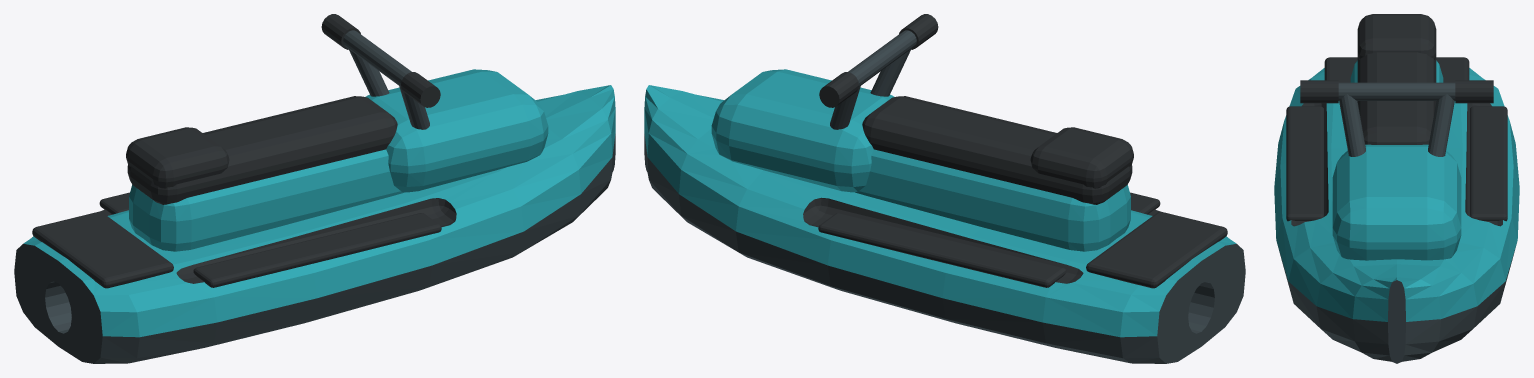
File: NEW_RECOVERY_122_LOD1.fbx
3 renders of one model, left to right at view 1: azimuth 30°, elevation 25°; view 2: azimuth 150°, elevation 25°; view 3: azimuth 270°, elevation 25°, orthographic. The views are drawn at different scales.
Parts seen in each view (by area): view 1: Generic personal watercraft solid; view 2: Generic personal watercraft solid; view 3: Generic personal watercraft solid.
Boxes of the visible parts, left/top/right/bottom form: Generic personal watercraft solid: left=14, top=14, right=615, bottom=363; Generic personal watercraft solid: left=644, top=14, right=1245, bottom=363; Generic personal watercraft solid: left=1274, top=14, right=1519, bottom=363.
Bounding box in the file's own units: 310 × 122 × 117.
